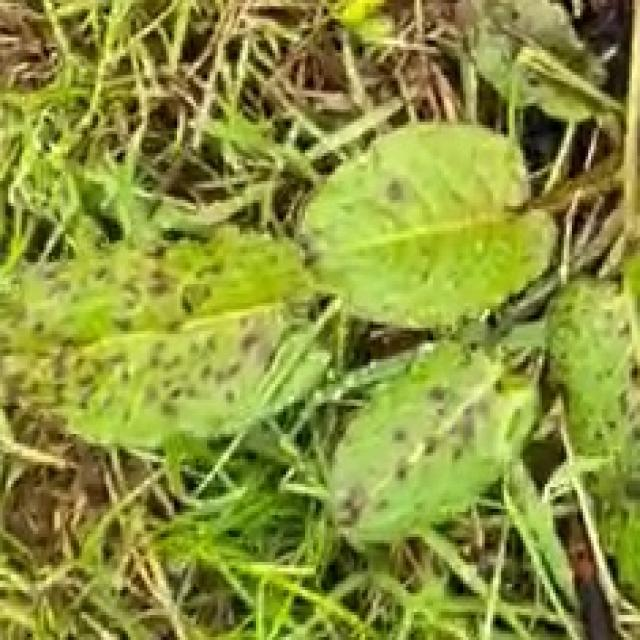organic waste: (11, 134, 640, 595)
